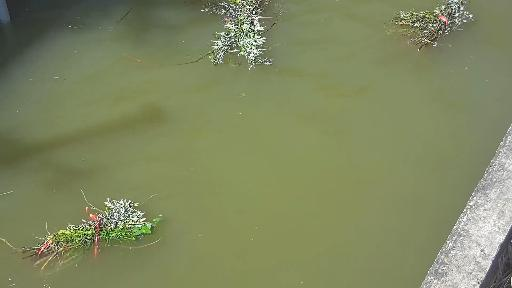twig: (0, 177, 166, 277), (193, 0, 283, 69), (394, 0, 495, 48)
